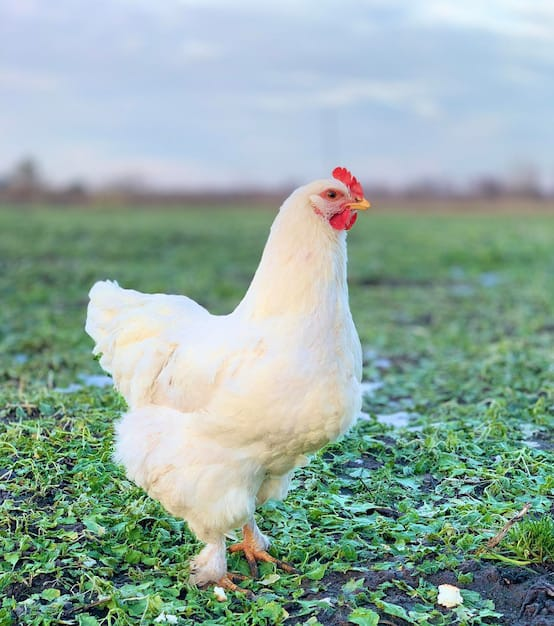Healthy: (81, 157, 374, 579)
